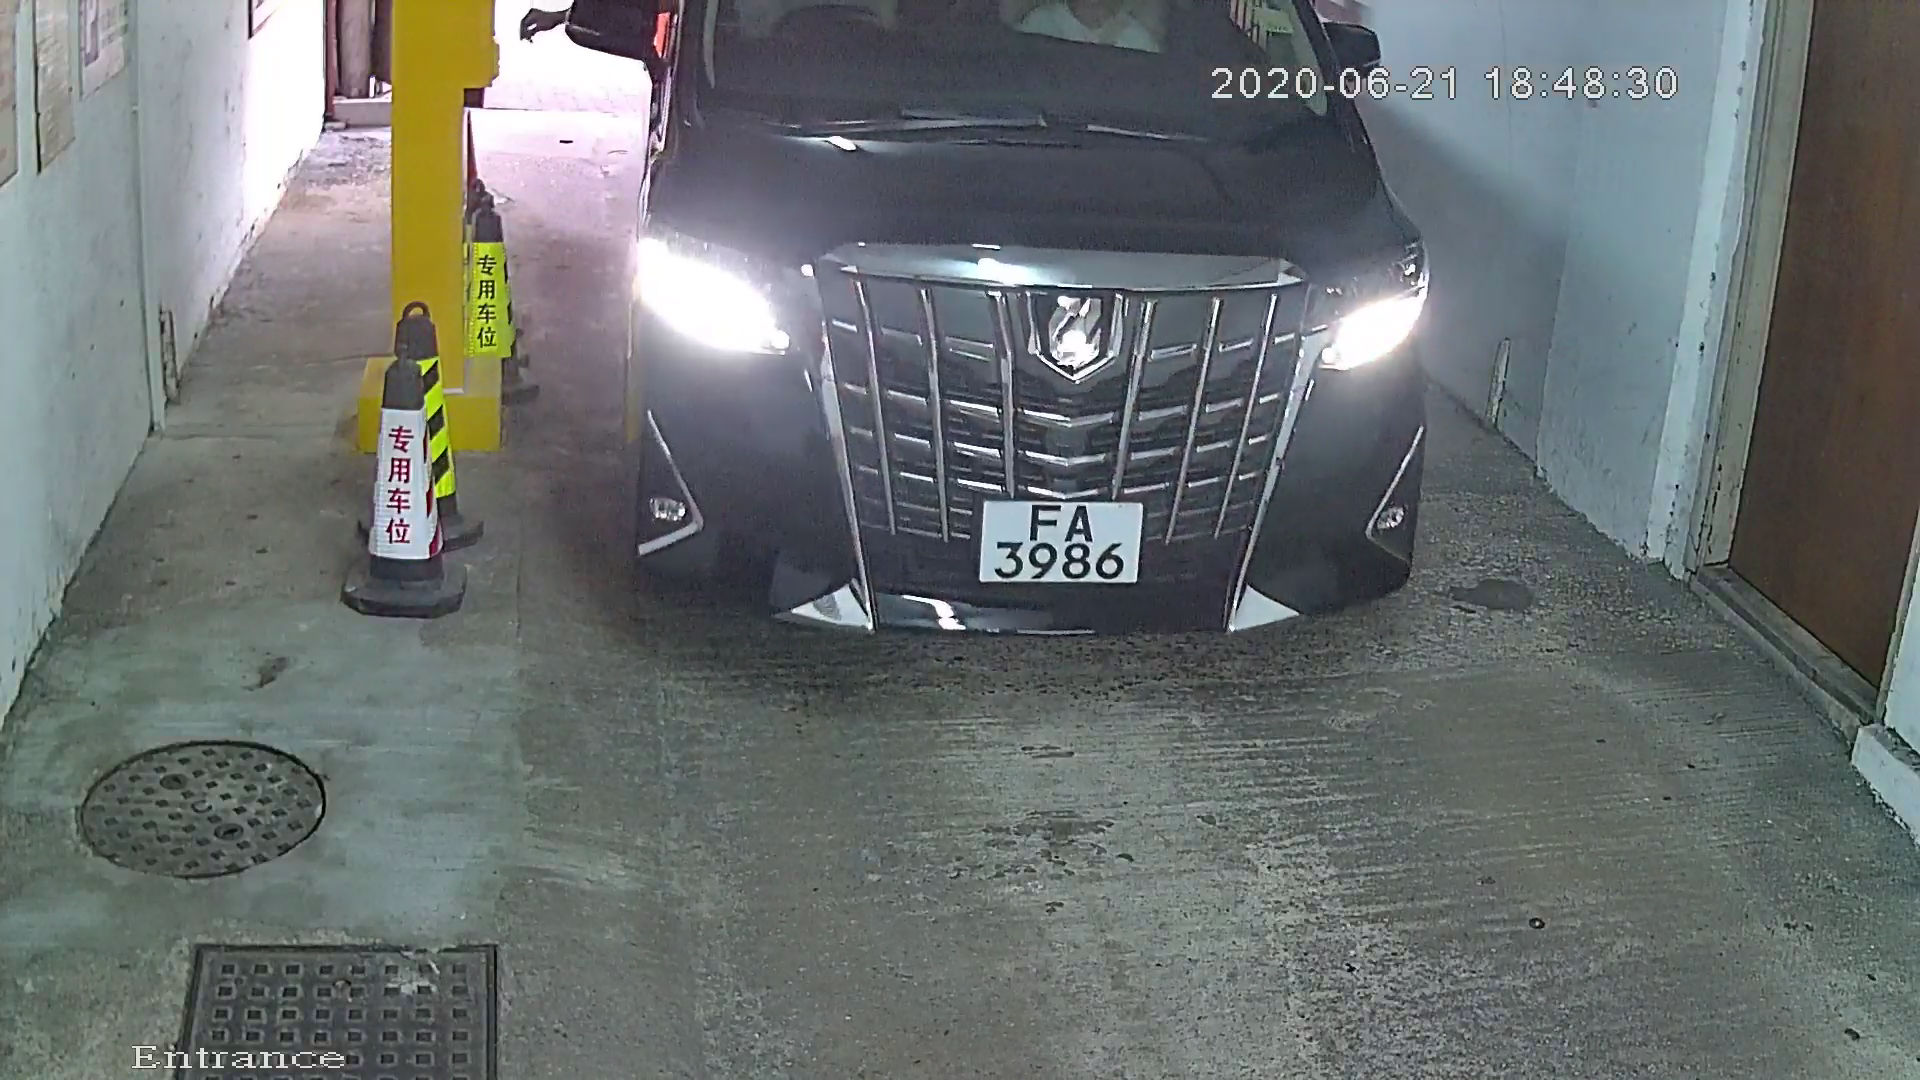privatecar: (556, 3, 1505, 731)
